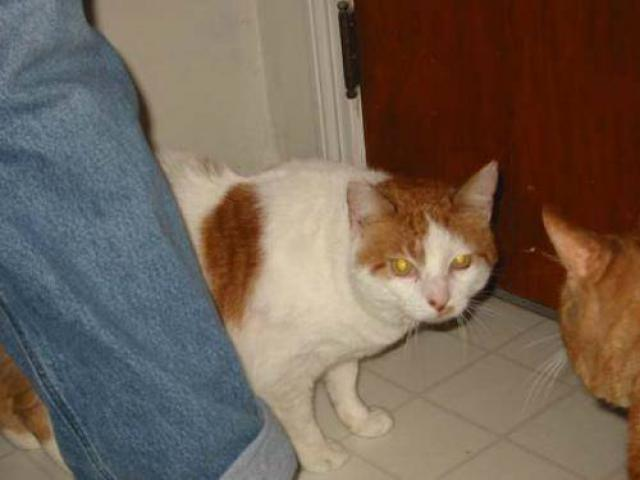cat: (166, 139, 507, 465)
